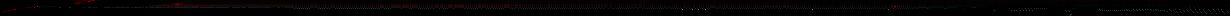Blue cone: (26, 7, 32, 8), (12, 9, 16, 10)
Yellow cone: (889, 5, 906, 8), (171, 3, 184, 6)
